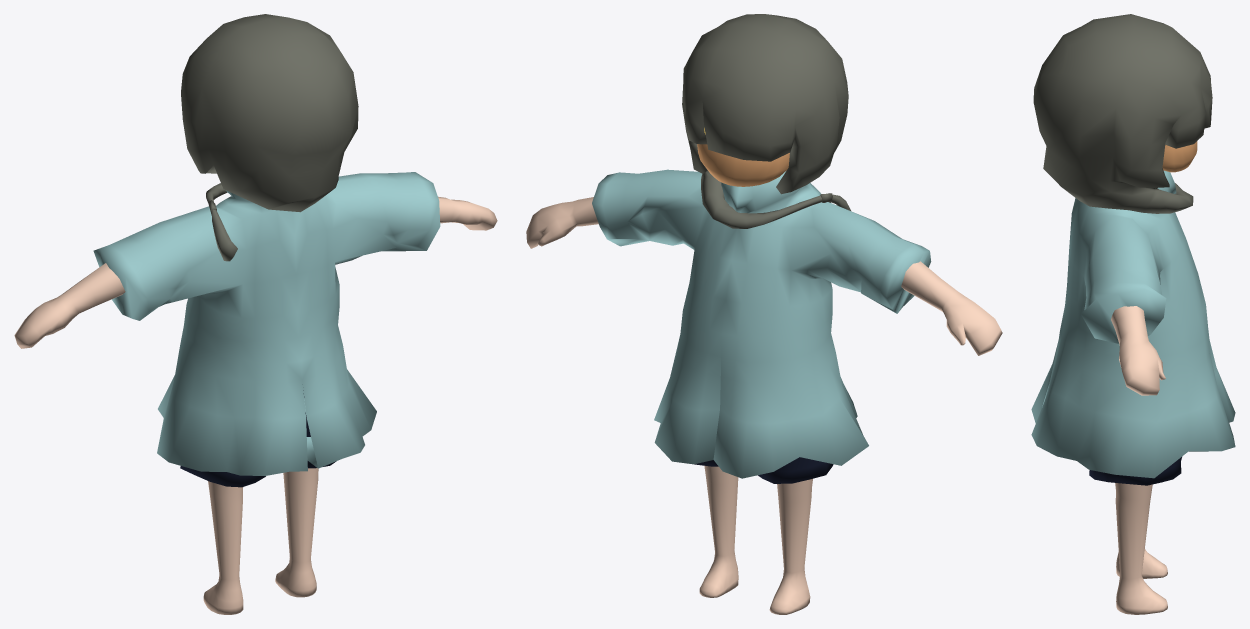
Rendered from FinaCharColored.fbx.
3 renders of one model, left to right at view 1: azimuth 30°, elevation 25°; view 2: azimuth 150°, elevation 25°; view 3: azimuth 270°, elevation 25°, orthographic. The views are drawn at different scales.
Visible parts, largest first — view 1: DRESS_POSW_A, hair_pray, Leg_R, Leg_L, Hand_A_L, Hand_A_Right, pant2; view 2: DRESS_POSW_A, hair_pray, Leg_L, Hand_A_L, Leg_R, mask, Hand_A_Right, pant2; view 3: DRESS_POSW_A, hair_pray, Leg_R, Hand_A_Right, pant2.001, mask, Leg_L.
Part boxes in pixels (x1=…): DRESS_POSW_A: x1=93, y1=172, x2=440, y2=475; hair_pray: x1=181, y1=14, x2=358, y2=261; Leg_R: x1=275, y1=468, x2=318, y2=597; Leg_L: x1=203, y1=481, x2=243, y2=614; Hand_A_L: x1=14, y1=263, x2=125, y2=348; Hand_A_Right: x1=438, y1=196, x2=497, y2=230; pant2: x1=180, y1=466, x2=265, y2=487; DRESS_POSW_A: x1=592, y1=169, x2=931, y2=478; hair_pray: x1=682, y1=14, x2=850, y2=228; Leg_L: x1=769, y1=479, x2=812, y2=614; Hand_A_L: x1=901, y1=261, x2=1002, y2=355; Leg_R: x1=699, y1=465, x2=738, y2=597; mask: x1=697, y1=144, x2=789, y2=186; Hand_A_Right: x1=526, y1=197, x2=598, y2=248; pant2: x1=758, y1=457, x2=833, y2=483; DRESS_POSW_A: x1=1031, y1=170, x2=1235, y2=478; hair_pray: x1=1033, y1=14, x2=1212, y2=213; Leg_R: x1=1115, y1=483, x2=1167, y2=614; Hand_A_Right: x1=1111, y1=306, x2=1165, y2=395; pant2.001: x1=1089, y1=457, x2=1181, y2=485; mask: x1=1162, y1=141, x2=1197, y2=172; Leg_L: x1=1116, y1=549, x2=1167, y2=578.
Bounding box in the file's own units: 661 × 771 × 252.
